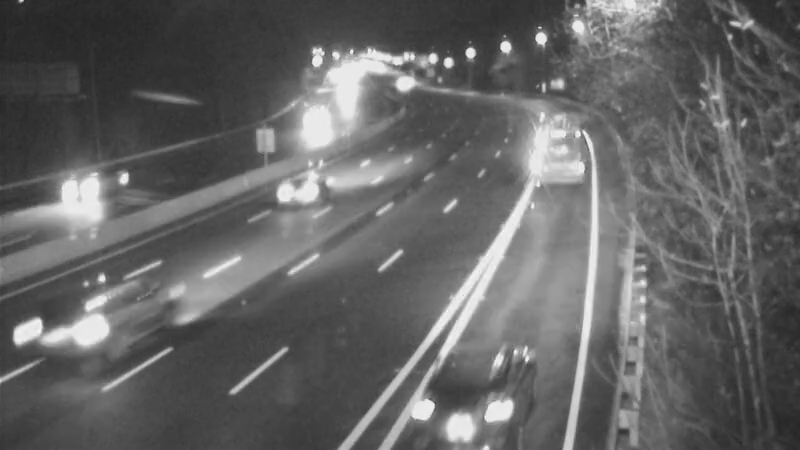vehicle: (34, 277, 144, 387), (400, 348, 510, 450), (268, 156, 348, 236), (34, 154, 114, 234), (523, 121, 573, 171), (291, 93, 341, 143)
